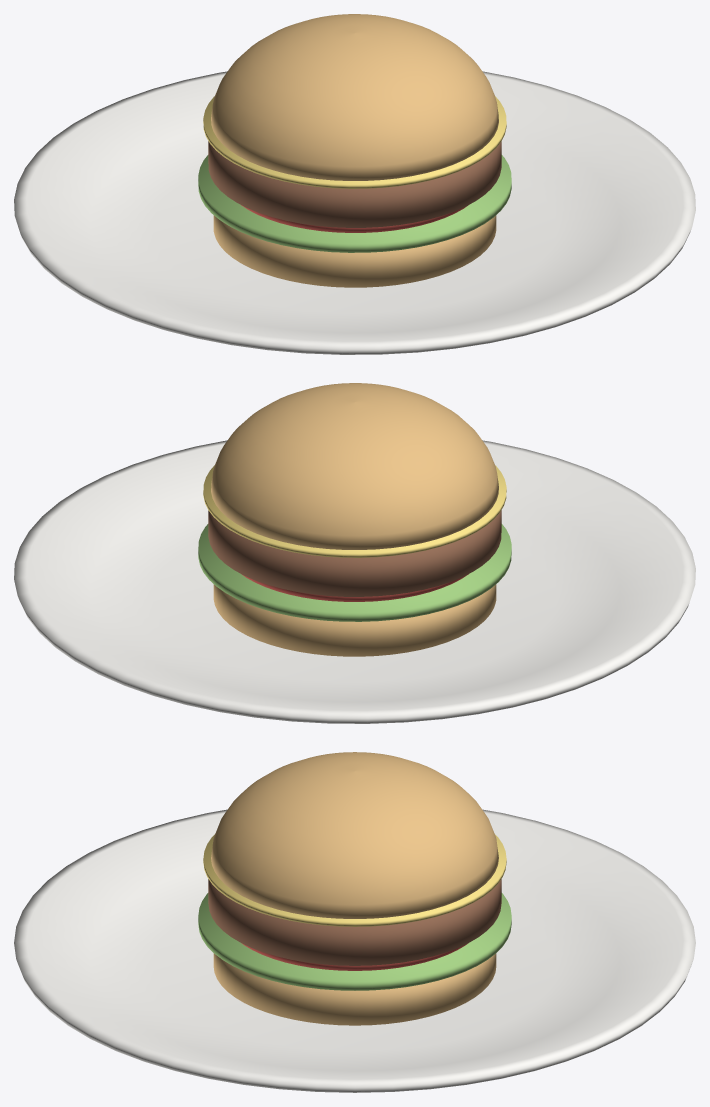
Rendered from hamburguer-teste.glb.
3 renders of one model, top to bottom at view 1: azimuth 30°, elevation 25°; view 2: azimuth 150°, elevation 25°; view 3: azimuth 270°, elevation 25°, orthographic.
Visible parts, largest first — view 1: hamburguer-teste; view 2: hamburguer-teste; view 3: hamburguer-teste.
Part boxes in pixels (box(x1,y1,x2,y2)): hamburguer-teste: box(14, 14, 695, 354); hamburguer-teste: box(14, 383, 695, 723); hamburguer-teste: box(14, 752, 695, 1092).
Bounding box in the file's own units: 0.27 × 0.096 × 0.27.
